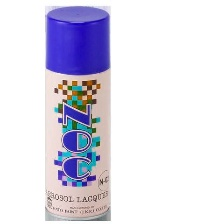aerosol_cans: (41, 4, 113, 222)
